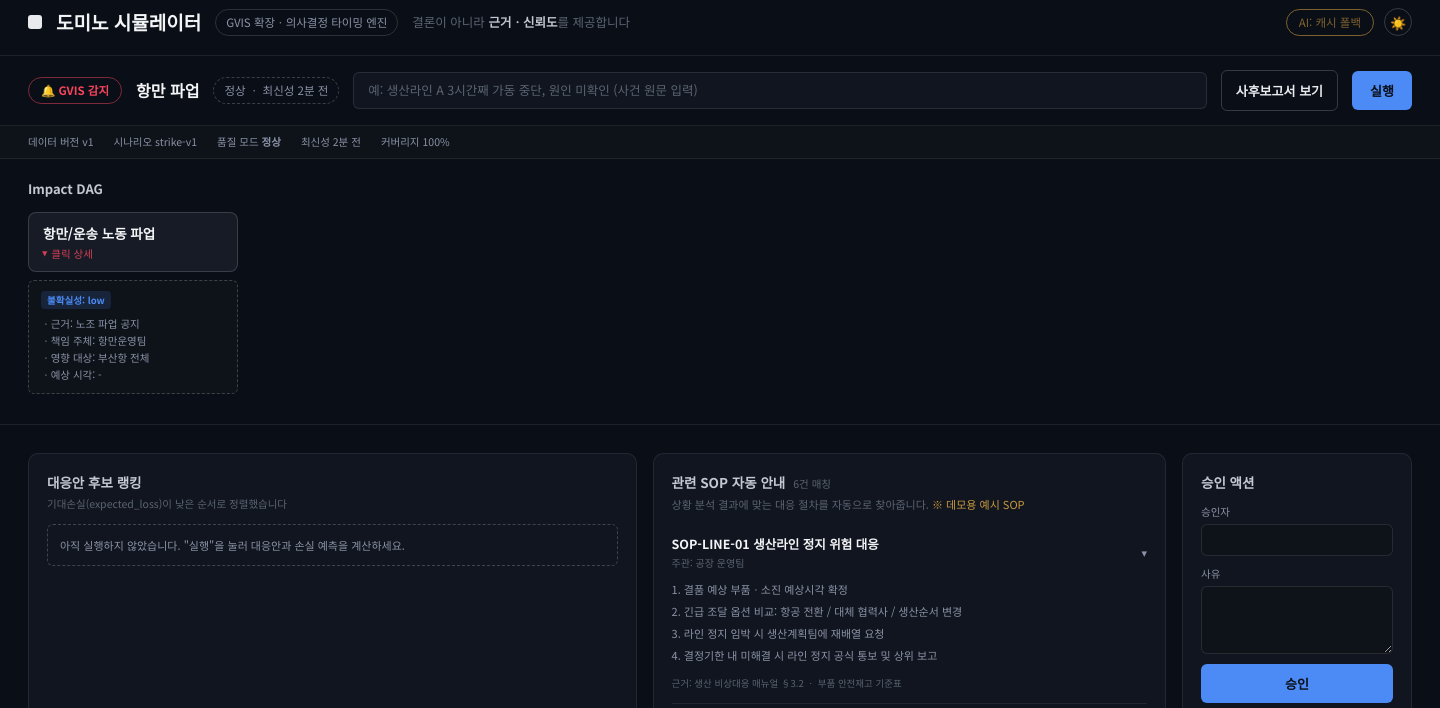
Test: IncidentDetailPage — 다시 실행(재시뮬레이션) › 최초 실행 후 '다시 실행' 클릭 시 POST /simulate 후 대응안 후보를 다시 불러온다
Expected: the text "항만 파업" is shown, [136, 78, 199, 102]
Click the button "실행" at [1382, 90], box [1352, 70, 1412, 110]
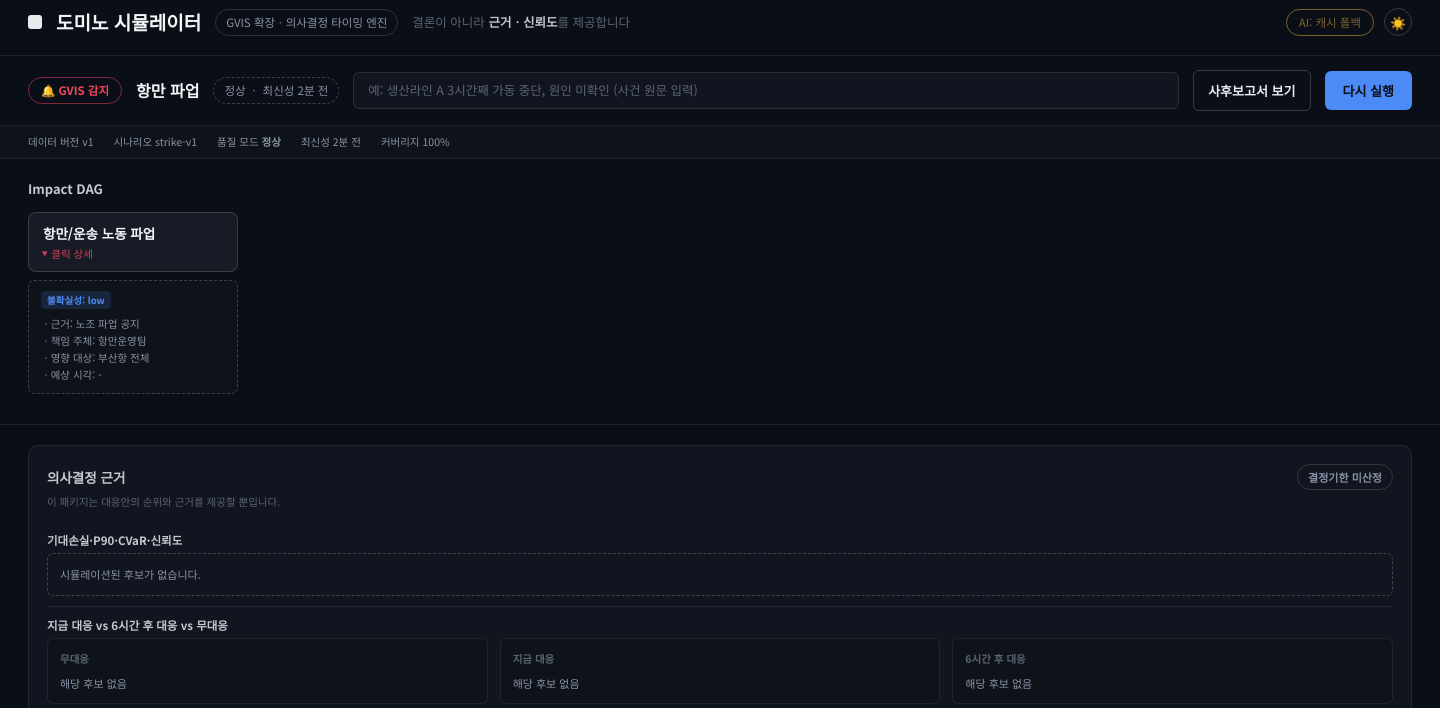
Result: the button "다시 실행" is shown
Click the button "다시 실행" at [1368, 90], box [1324, 70, 1412, 110]
(page scrolled)
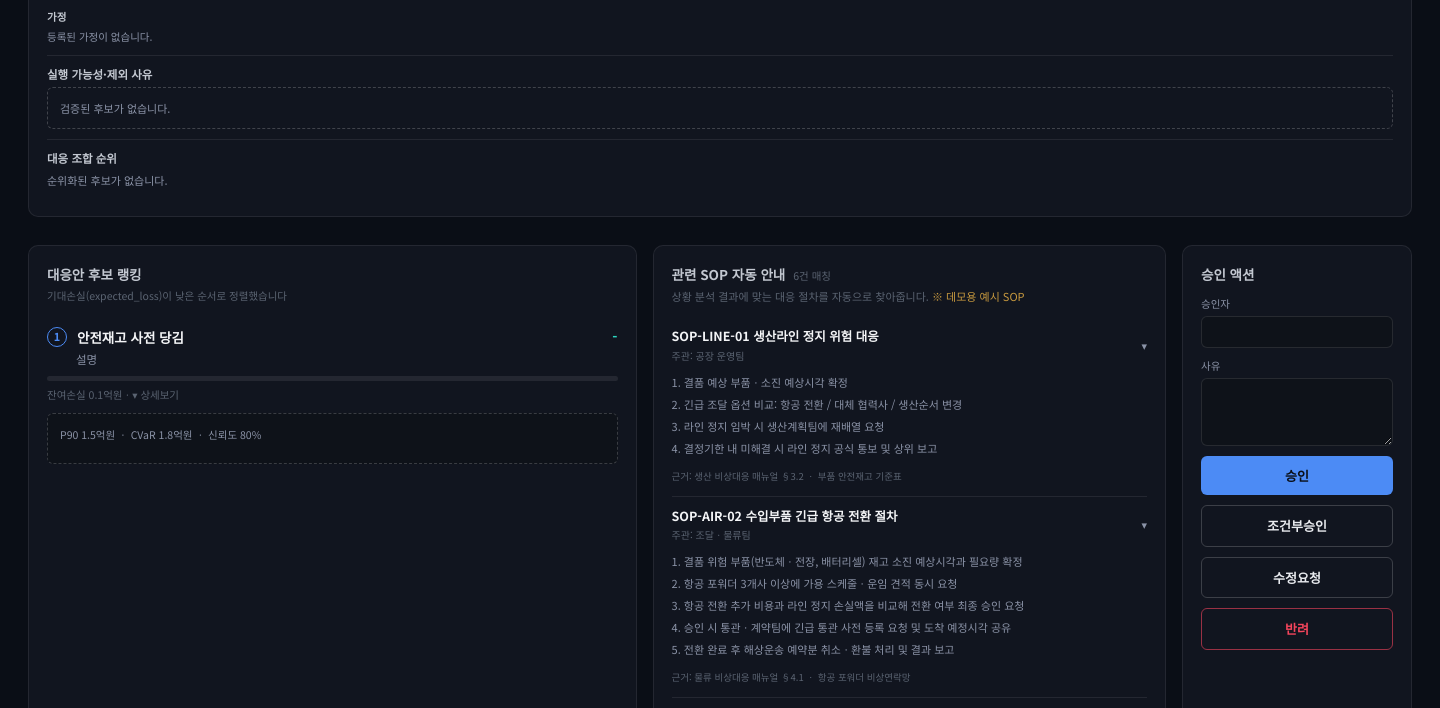
Result: the text "0.1억원" is shown at [89, 387, 122, 402]
